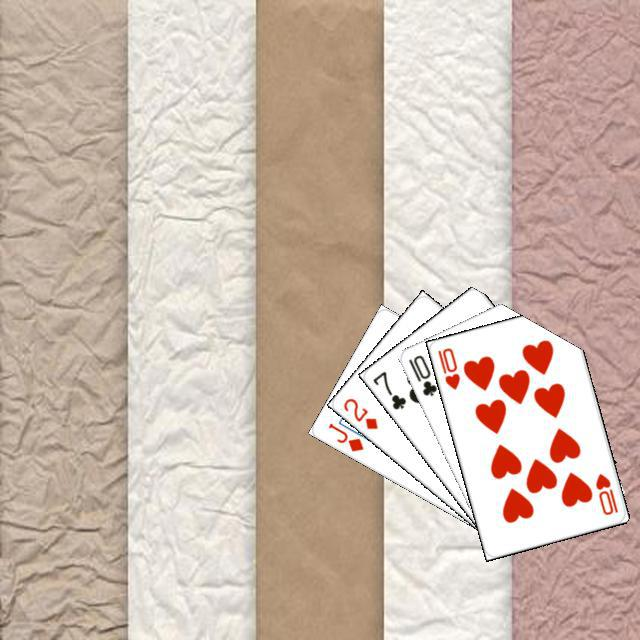10c: (404, 350, 439, 398)
10h: (590, 468, 620, 517), (433, 343, 462, 391)
2d: (338, 393, 379, 431)
7c: (368, 366, 408, 411)
Jd: (323, 417, 365, 453)
